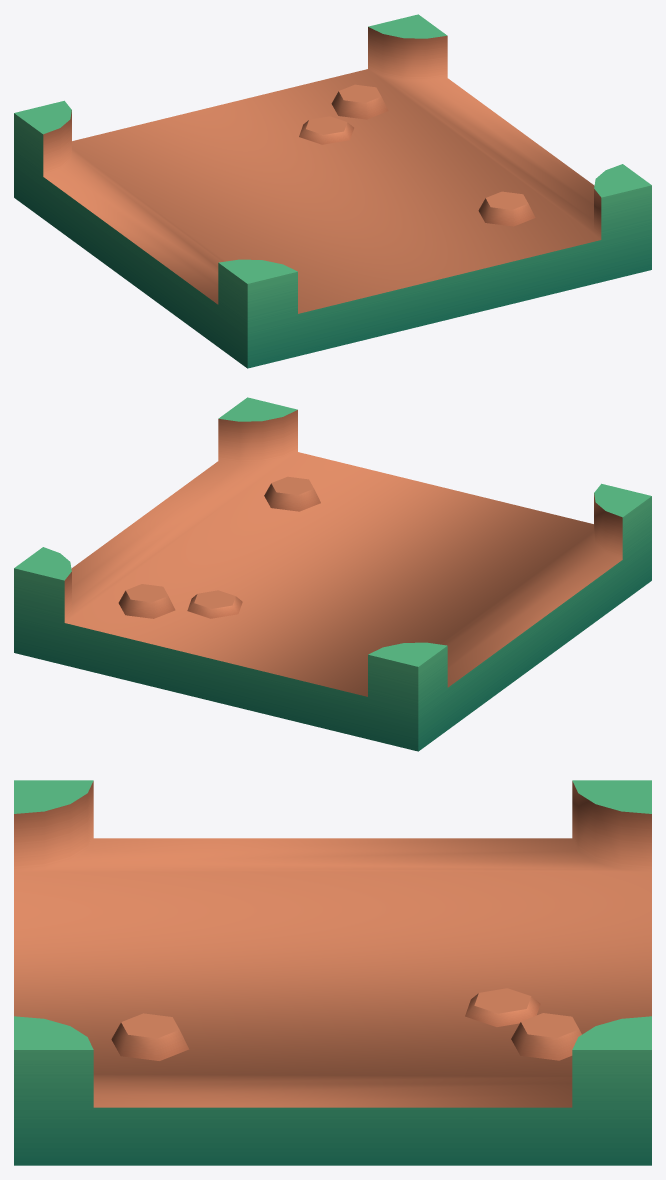
Rendered from tile-crossing.gltf.
The picture shows the model from 3 angles, top to bottom: view 1: azimuth 30°, elevation 25°; view 2: azimuth 150°, elevation 25°; view 3: azimuth 270°, elevation 25°; orthographic projection. The views are drawn at different scales.
Visible parts, largest first — view 1: tile-crossing; view 2: tile-crossing; view 3: tile-crossing.
Boxes of the visible parts, left/top/right/bottom form: tile-crossing: left=14, top=14, right=651, bottom=368; tile-crossing: left=14, top=397, right=651, bottom=751; tile-crossing: left=14, top=780, right=651, bottom=1165.
Bounding box in the file's own units: 1 × 0.2 × 1.
Materials: 1 (1 with a texture image).
